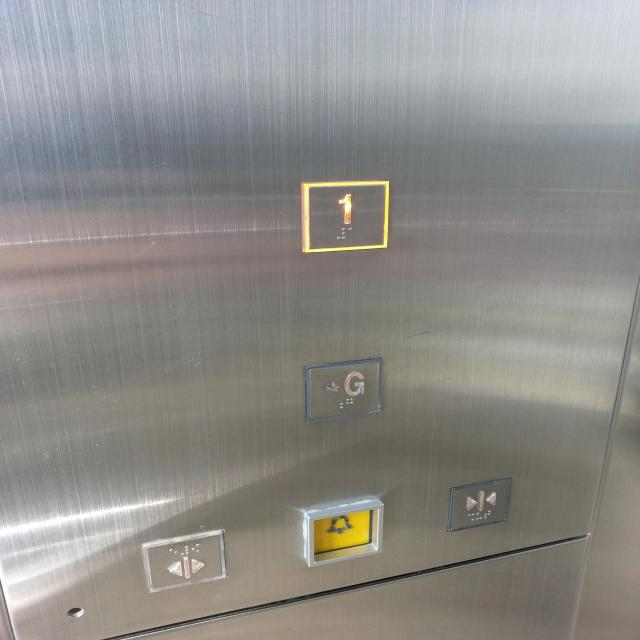1: (300, 178, 390, 255)
alarm: (300, 497, 388, 571)
close: (446, 474, 513, 534)
open: (136, 527, 231, 596)
sG: (302, 356, 384, 425)
